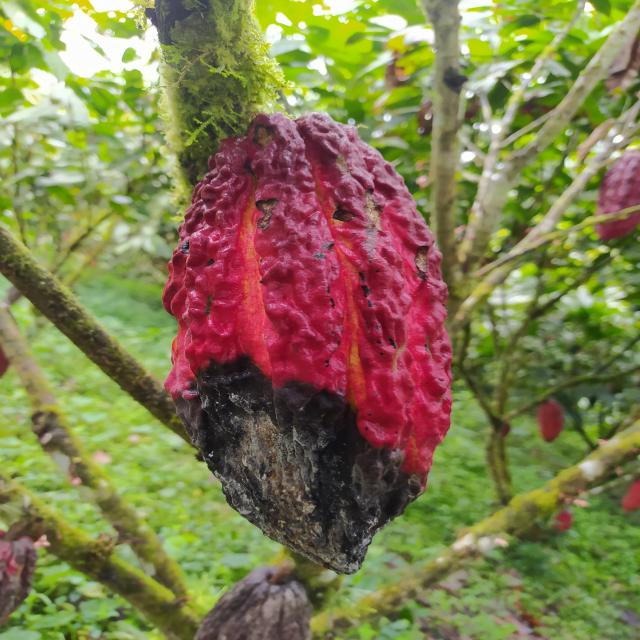Fitoftora: (161, 109, 455, 571)
